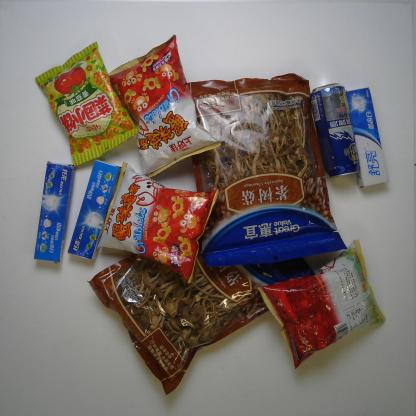Alcohol: (308, 80, 362, 180)
Dried Food: (83, 247, 320, 398), (176, 70, 351, 270)
Personal Hygiene: (66, 156, 124, 263), (343, 85, 391, 191), (31, 159, 78, 266)
Puffed Food: (254, 237, 388, 371), (106, 32, 224, 180), (94, 160, 222, 288), (32, 40, 141, 168)
